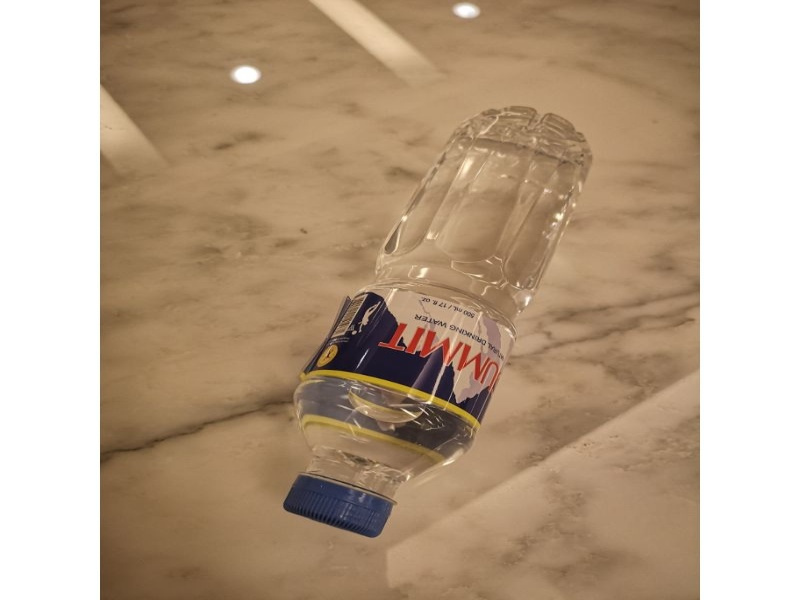PET #1: (256, 102, 615, 546)
